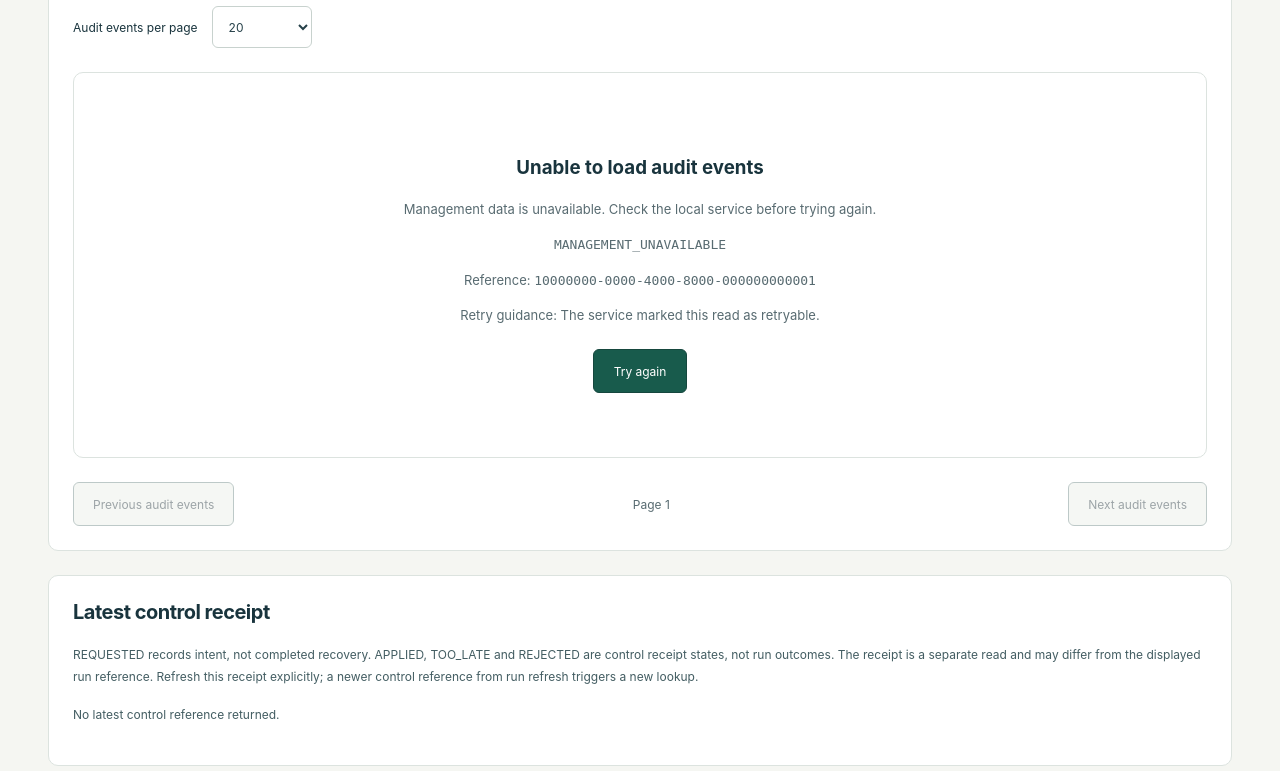
read-only run inspection and panel domains › isolates events failure/retry and successful empty pages from run detail
(page scrolled)
Expected: the message that starts with "Unable to load audit events" shows "MANAGEMENT_UNAVAILABLE", [554,237,726,252]
Click the button "Try again": (640, 371) [593,349,687,393]
(page scrolled)
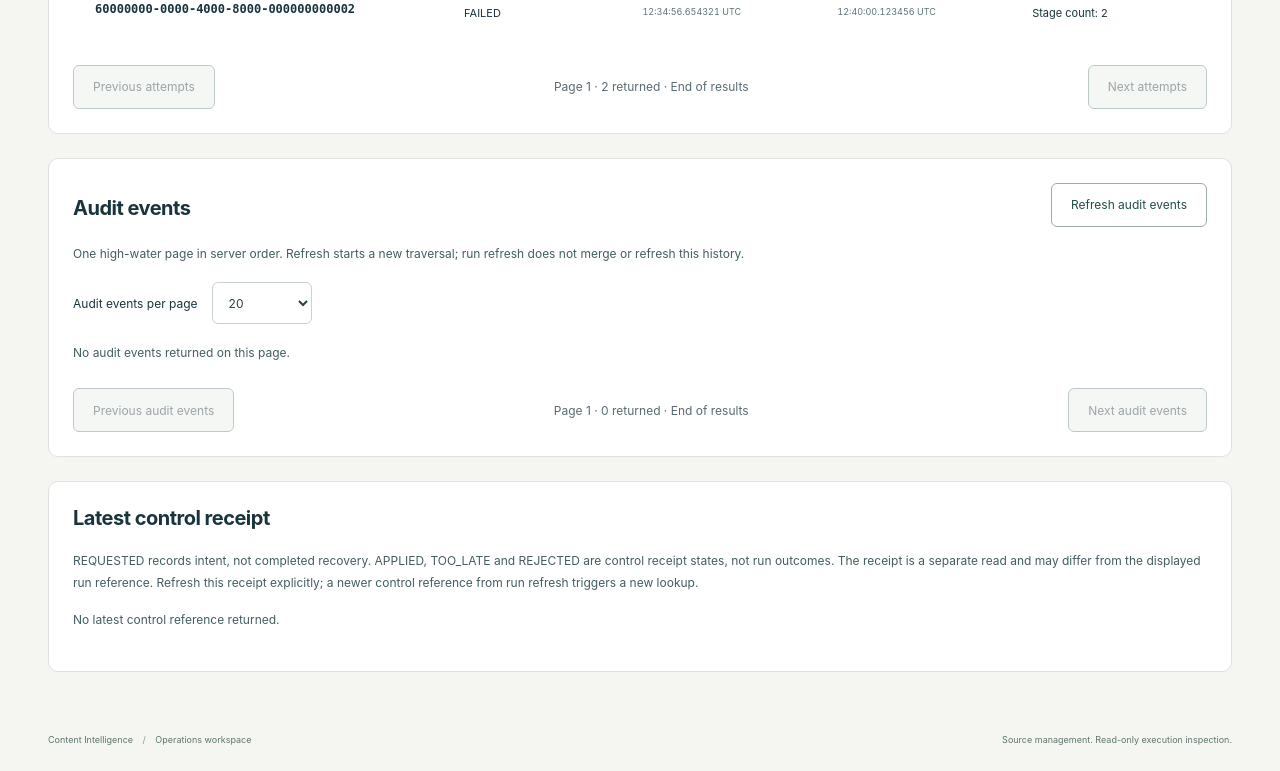
Expected: the button "Next audit events" is disabled, [1068,388,1207,432]
Now the text "No audit events returned on this page." is shown, box [73,345,290,360]
